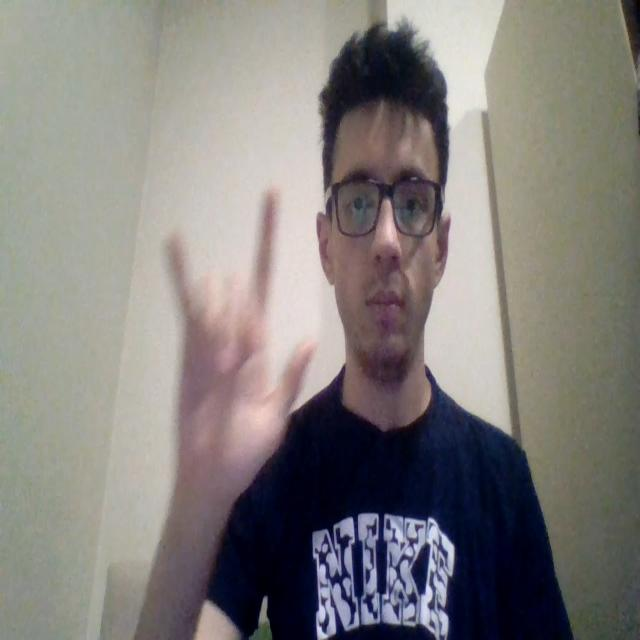iloveyou: (156, 185, 318, 505)
